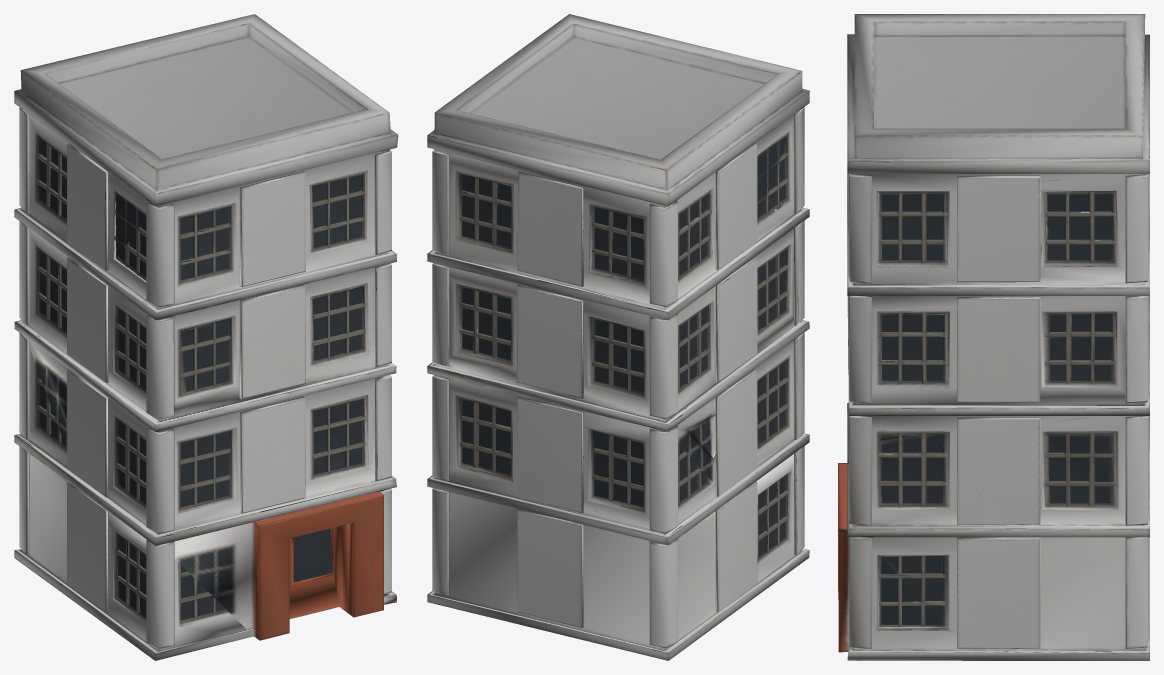
Rendered from 05-apartment-4-floors.glb.
3 views of the same model, side by side, from view 1: azimuth 30°, elevation 25°; view 2: azimuth 150°, elevation 25°; view 3: azimuth 270°, elevation 25° (orthographic). The views are drawn at different scales.
Parts seen in each view (by area): view 1: geometry_0; view 2: geometry_0; view 3: geometry_0.
Part boxes in pixels (x1,y1,x2,y2): geometry_0: (14,14,398,660); geometry_0: (427,14,809,660); geometry_0: (838,14,1149,660).
Size of the model in its own units: 0.4946 by 0.9517 by 0.5142.
1 material, 1 textured.
